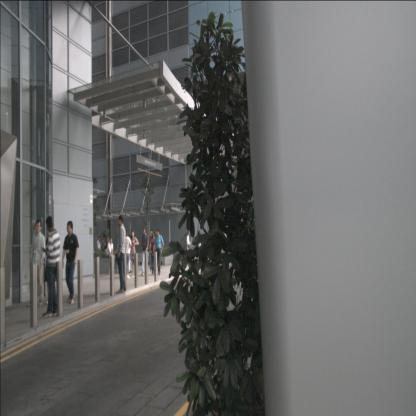human-pedestrian-adult: (42, 216, 60, 317), (27, 219, 46, 306), (61, 220, 79, 304), (116, 214, 127, 294), (153, 228, 164, 276), (128, 230, 139, 277), (122, 230, 132, 278), (141, 227, 149, 276), (150, 230, 157, 275), (106, 237, 115, 268), (148, 230, 154, 272), (186, 231, 191, 258), (103, 234, 107, 262), (97, 236, 101, 262)
